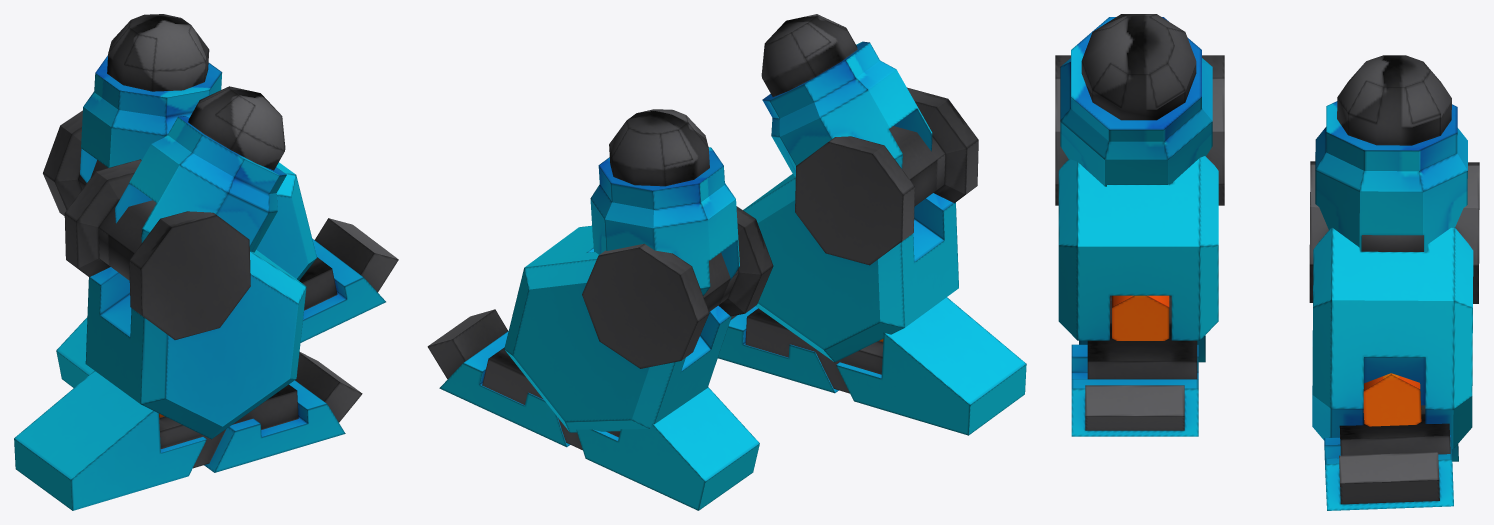
The model's file is Bottom_Idle11.obj.
3 views of the same model, side by side, from view 1: azimuth 30°, elevation 25°; view 2: azimuth 150°, elevation 25°; view 3: azimuth 270°, elevation 25° (orthographic). The views are drawn at different scales.
Parts seen in each view (by area): view 1: Object013, Object014, Object012, Object009, Object011, Object010; view 2: Object013, Object010, Object014, Object011, Object009, Object012; view 3: Object010, Object013, Object009, Object012, Object014, Object011.
Boxes of the visible parts, x1,y1,x2,y2 form: Object013: [64, 159, 306, 439]; Object014: [14, 352, 362, 510]; Object012: [115, 86, 286, 252]; Object009: [80, 14, 222, 182]; Object011: [56, 218, 398, 387]; Object010: [43, 110, 316, 280]; Object013: [743, 87, 978, 362]; Object010: [504, 206, 773, 432]; Object014: [718, 297, 1026, 435]; Object011: [427, 309, 759, 510]; Object009: [590, 109, 739, 295]; Object012: [761, 14, 932, 176]; Object010: [1309, 161, 1479, 449]; Object013: [1055, 55, 1224, 340]; Object009: [1315, 55, 1467, 251]; Object012: [1060, 14, 1212, 186]; Object014: [1071, 295, 1205, 436]; Object011: [1324, 373, 1458, 510].
Size of the model in its own units: 127 by 106 by 94.65.
